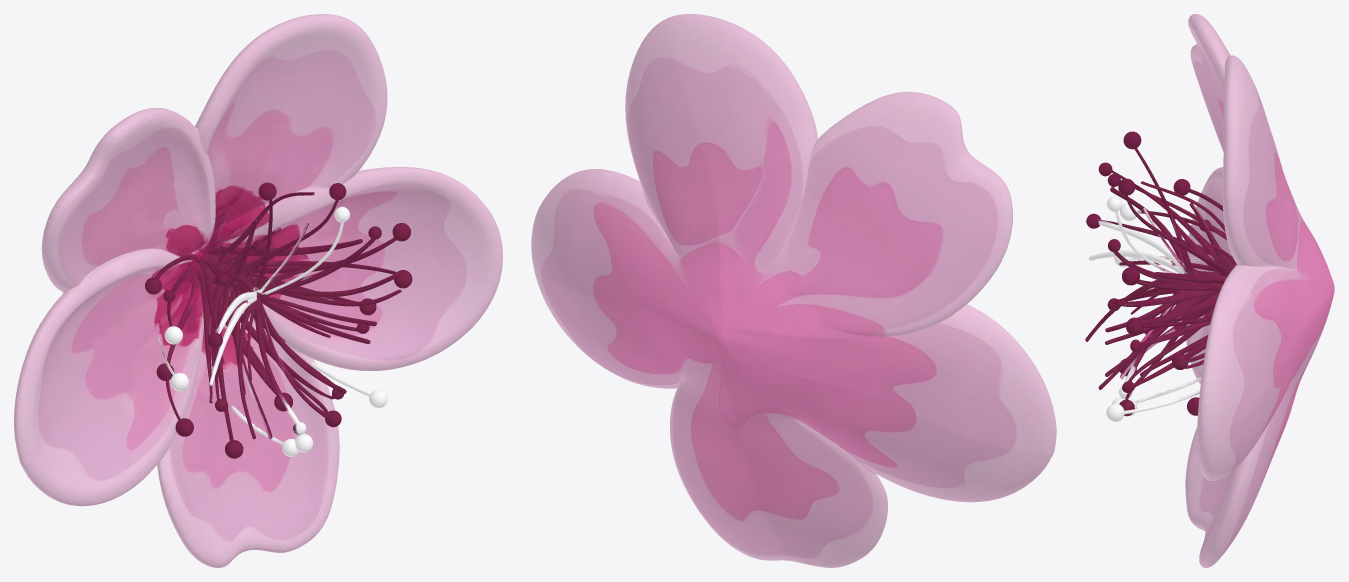
The model's file is Fiore.glb.
The picture shows the model from 3 angles, left to right: view 1: azimuth 30°, elevation 25°; view 2: azimuth 150°, elevation 25°; view 3: azimuth 270°, elevation 25°; orthographic projection. The views are drawn at different scales.
Bounding box in the file's own units: 1.89 × 1.9 × 0.8396.
Materials: 1 (1 with a texture image).
